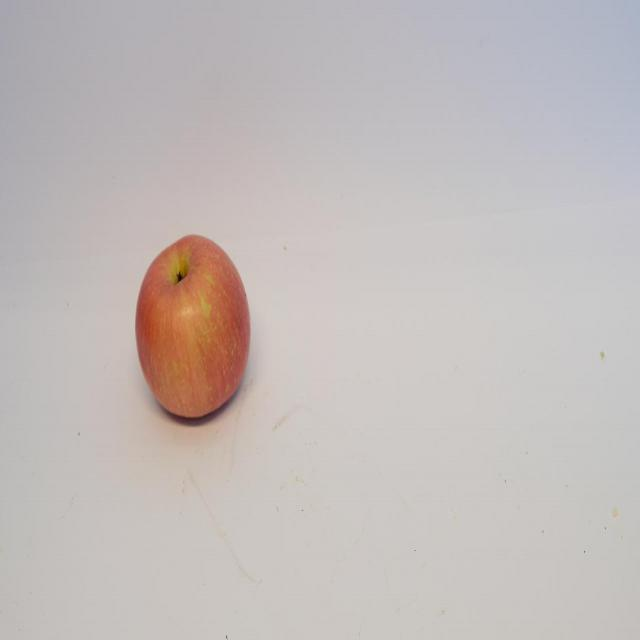apple: (133, 232, 252, 424)
